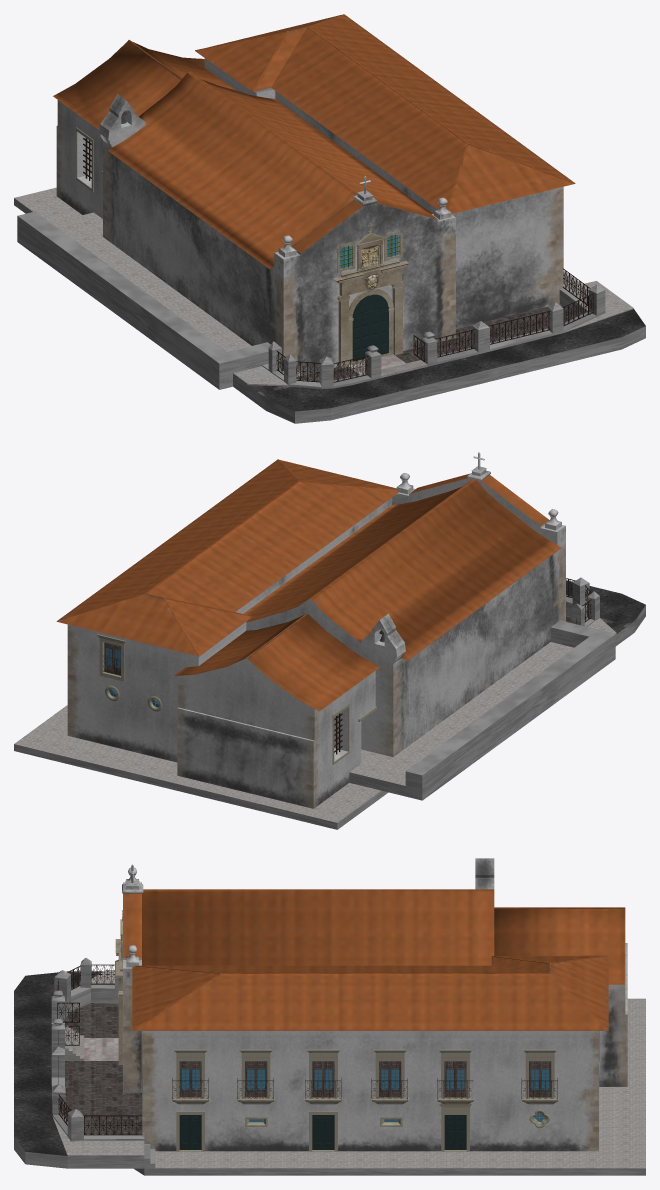
Rendered from 2igreja.glb.
3 renders of one model, top to bottom at view 1: azimuth 30°, elevation 25°; view 2: azimuth 150°, elevation 25°; view 3: azimuth 270°, elevation 25°, orthographic. The views are drawn at different scales.
Visible parts, largest first — view 1: Object_30, Object_24, Object_33, Object_11, Object_2, Object_3, Object_12, Object_15, Object_9, Object_16, Object_13; view 2: Object_30, Object_24, Object_33, Object_11, Object_2, Object_7; view 3: Object_30, Object_24, Object_11, Object_33, Object_2, Object_12, Object_23, Object_27, Object_31, Object_32, Object_28, Object_8 (+6 smaller).
Part boxes in pixels (<box>): Object_30: <box>53,14,575,268</box>; Object_24: <box>56,31,563,376</box>; Object_33: <box>14,198,645,423</box>; Object_11: <box>14,187,633,386</box>; Object_2: <box>248,309,645,411</box>; Object_3: <box>333,223,409,368</box>; Object_12: <box>296,304,576,381</box>; Object_15: <box>278,293,593,382</box>; Object_9: <box>352,294,388,361</box>; Object_16: <box>276,268,590,376</box>; Object_13: <box>349,354,427,377</box>; Object_30: <box>56,459,561,711</box>; Object_24: <box>67,452,565,808</box>; Object_33: <box>14,577,645,829</box>; Object_11: <box>14,618,616,822</box>; Object_2: <box>566,580,645,633</box>; Object_7: <box>97,634,376,764</box>; Object_30: <box>123,889,625,1030</box>; Object_24: <box>122,858,627,1151</box>; Object_11: <box>52,970,645,1168</box>; Object_33: <box>14,958,645,1175</box>; Object_2: <box>14,971,102,1155</box>; Object_12: <box>65,1003,142,1134</box>; Object_23: <box>179,1061,551,1097</box>; Object_27: <box>174,1049,556,1097</box>; Object_31: <box>179,1115,466,1149</box>; Object_32: <box>182,1069,548,1089</box>; Object_28: <box>172,1097,558,1104</box>; Object_8: <box>176,1103,471,1151</box>.
Bounding box in the file's own units: 9.45 × 4.43 × 13.18.
27 materials, 24 textured.
